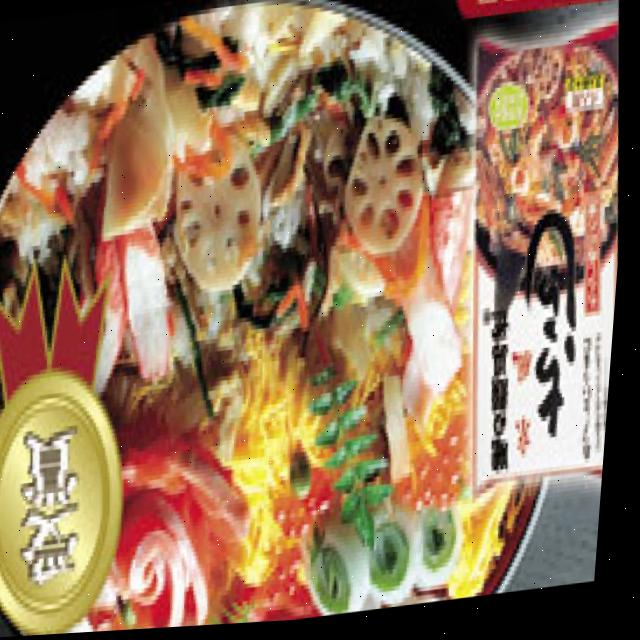寿司卷物: (97, 0, 501, 634)
